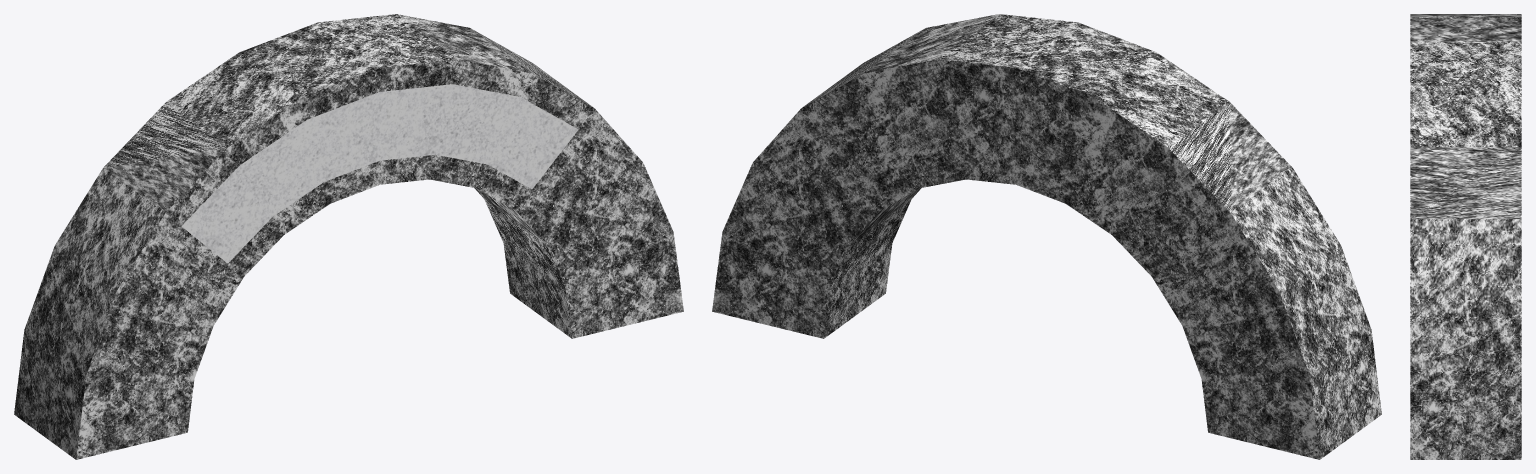
File: portal_largada.glb
3 views of the same model, side by side, from view 1: azimuth 30°, elevation 25°; view 2: azimuth 150°, elevation 25°; view 3: azimuth 270°, elevation 25° (orthographic). The views are drawn at different scales.
Parts seen in each view (by area): view 1: overheadRound(Clone); view 2: overheadRound(Clone); view 3: overheadRound(Clone).
Boxes of the visible parts, left/top/right/bottom form: overheadRound(Clone): left=14, top=14, right=683, bottom=459; overheadRound(Clone): left=712, top=14, right=1381, bottom=459; overheadRound(Clone): left=1410, top=14, right=1521, bottom=459.
Size of the model in its own units: 1.87 by 0.9334 by 0.33.
Materials: 2 (2 with a texture image).
